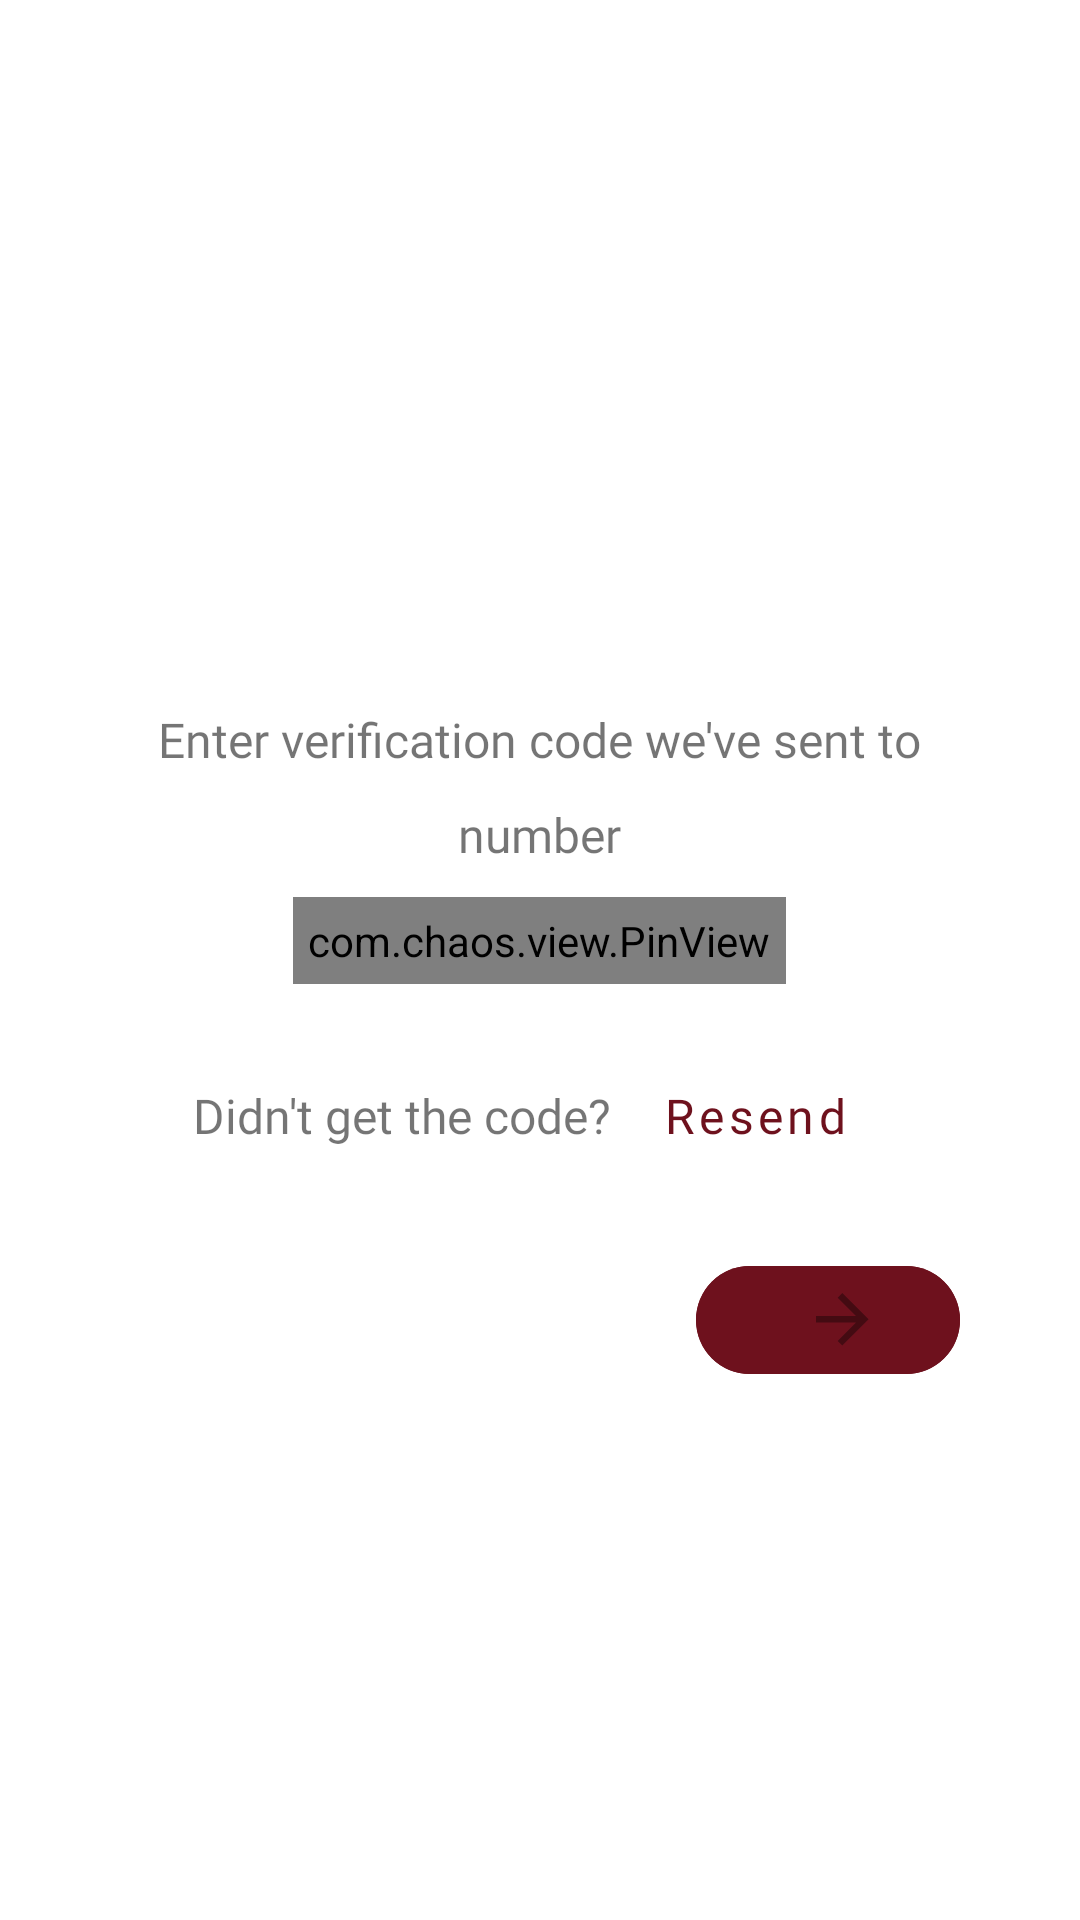

Screen size 1080w x 1920h. Icon name, then its box in pixels as (x1, y1, x2, y2):
arrow forward: (696, 1266, 960, 1374)
